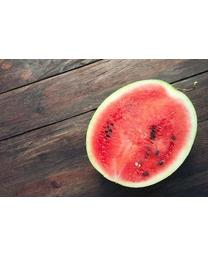watermelon: (85, 78, 201, 190)
